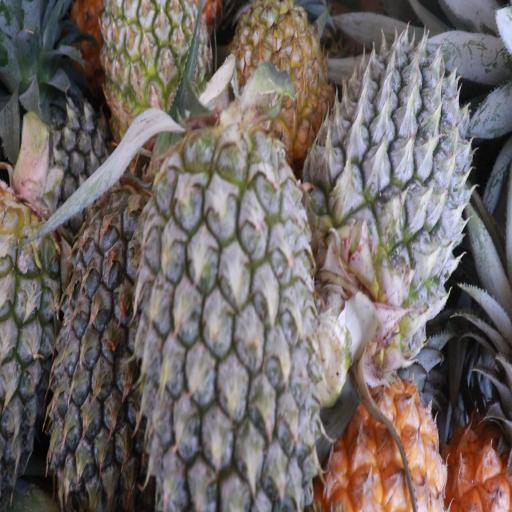------------------------------: (104, 0, 209, 140)
Pineapple - v8 v1: (321, 370, 448, 512), (228, 0, 331, 146)
